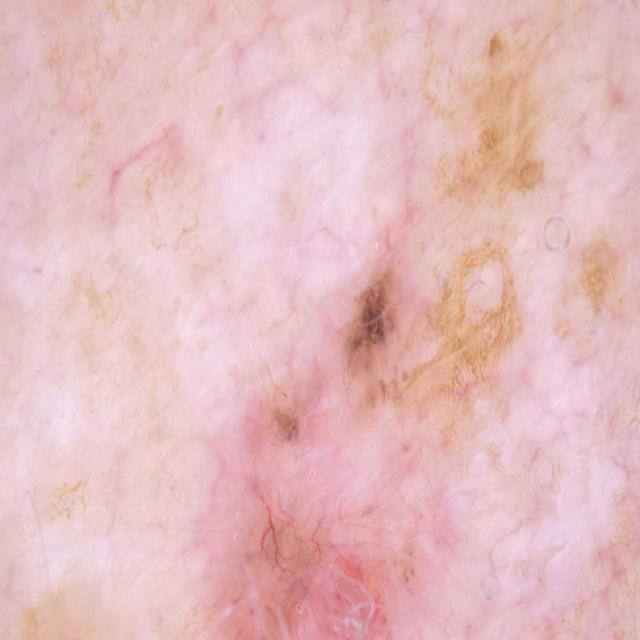Carcinoma: (174, 454, 475, 640), (443, 198, 545, 399), (325, 261, 410, 417), (467, 35, 570, 154), (576, 223, 633, 334)
